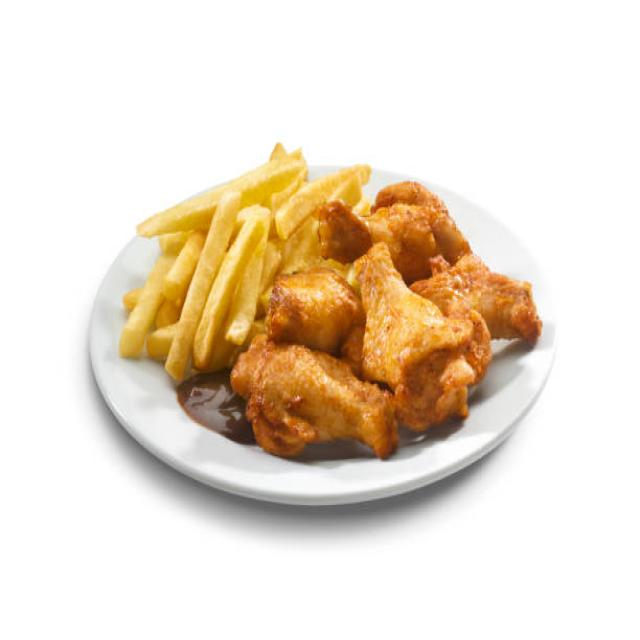Frango: (229, 175, 547, 464)
